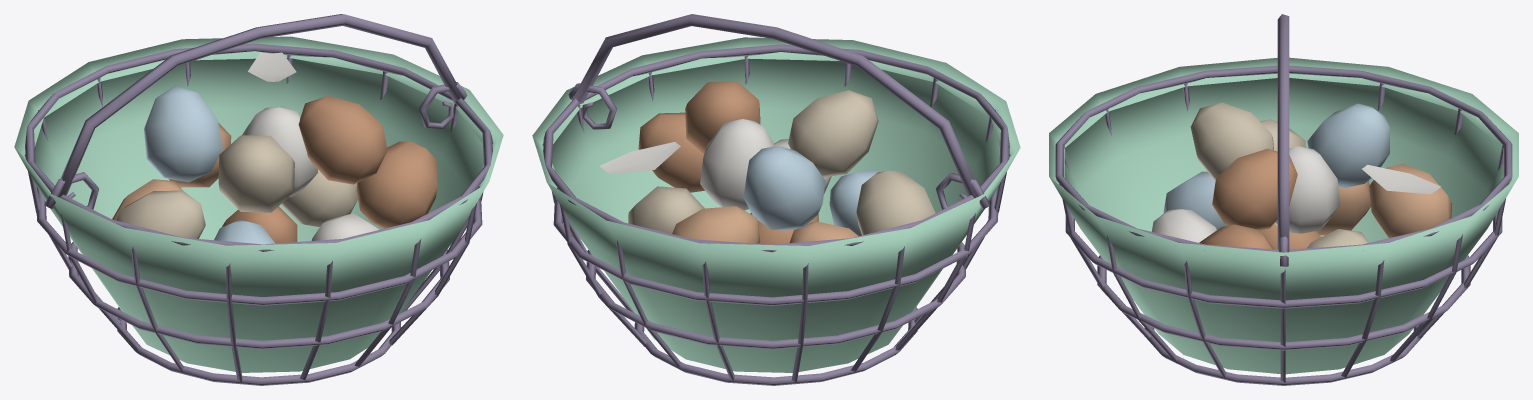
Rendered from egg_basket.glb.
The picture shows the model from 3 angles, left to right: view 1: azimuth 30°, elevation 25°; view 2: azimuth 150°, elevation 25°; view 3: azimuth 270°, elevation 25°; orthographic projection. The views are drawn at different scales.
Parts seen in each view (by area): view 1: egg_basket; view 2: egg_basket; view 3: egg_basket.
Part boxes in pixels (bbox=[...]): egg_basket: bbox=[14, 14, 503, 385]; egg_basket: bbox=[532, 14, 1020, 385]; egg_basket: bbox=[1049, 14, 1518, 385].
Size of what is drawn, in the model's own units: 0.3 by 0.2 by 0.3.
